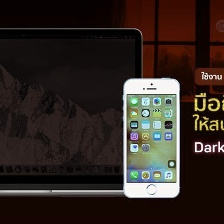phone: (119, 73, 183, 201)
